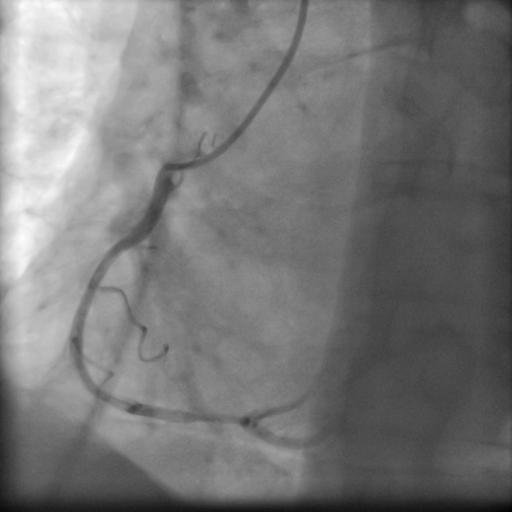Stenosis: (186, 407, 238, 430)
